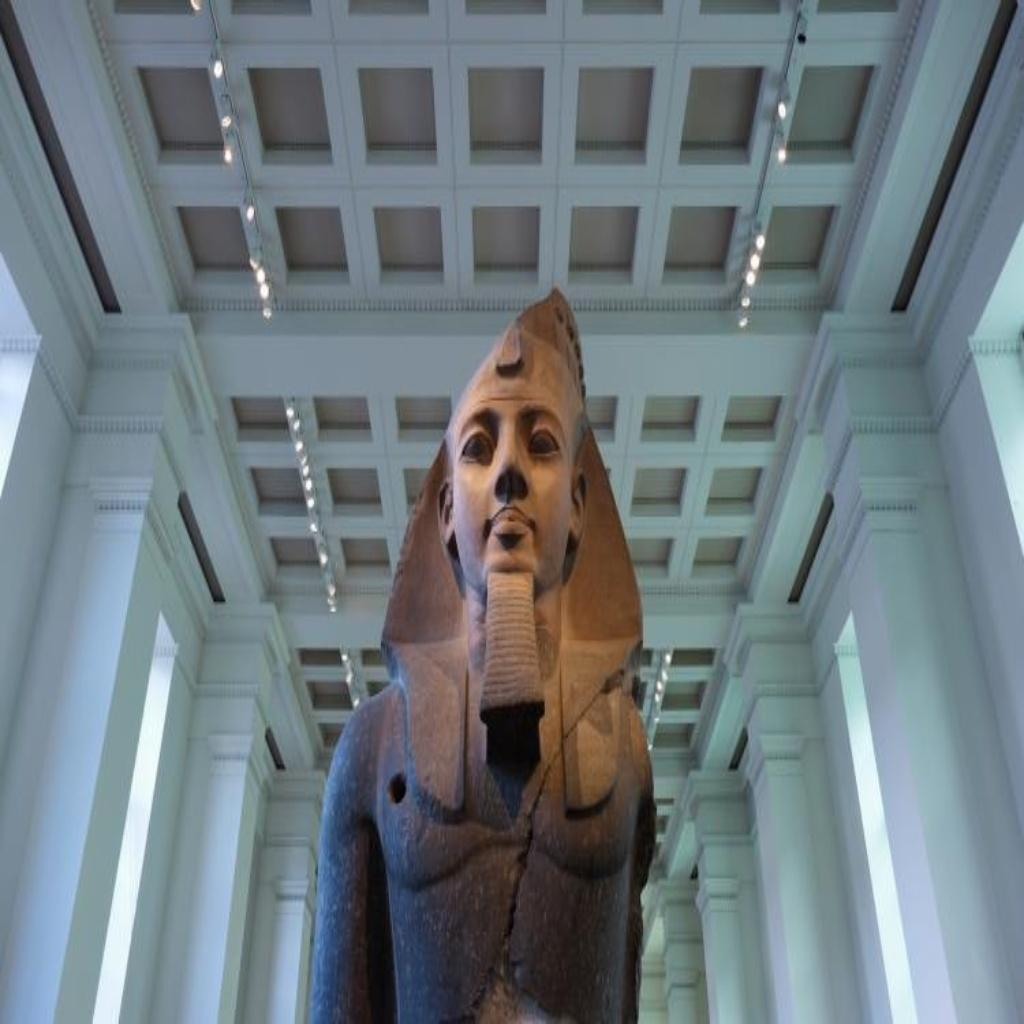bust of Ramesses II: (306, 282, 658, 1020)
